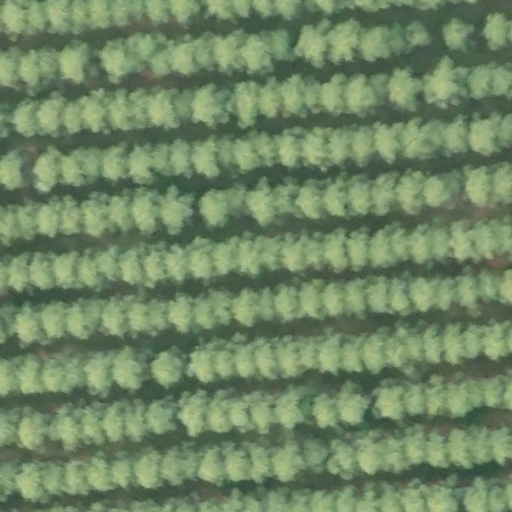eucalipto: (420, 56, 471, 111), (60, 38, 101, 89), (282, 76, 325, 120), (437, 13, 480, 56), (30, 146, 66, 197), (197, 438, 231, 490), (297, 21, 334, 68), (107, 348, 146, 392), (161, 189, 195, 239), (65, 296, 100, 344), (333, 383, 371, 427), (245, 175, 277, 227), (152, 345, 187, 392), (328, 18, 362, 65), (229, 80, 262, 128), (387, 70, 424, 112), (51, 410, 85, 454), (149, 86, 182, 131), (199, 188, 234, 230), (17, 410, 51, 453), (127, 142, 159, 187), (469, 113, 501, 158), (371, 119, 404, 162), (191, 83, 224, 125), (130, 189, 162, 232), (347, 127, 380, 168), (342, 75, 375, 116), (295, 177, 328, 218), (397, 168, 425, 216), (144, 398, 178, 437), (243, 32, 277, 71), (178, 393, 209, 435), (362, 327, 389, 375), (271, 442, 305, 480), (345, 228, 375, 271), (275, 389, 307, 429), (281, 232, 311, 274), (168, 37, 199, 77), (341, 278, 369, 321), (317, 332, 345, 375), (360, 22, 390, 62), (134, 449, 163, 490), (466, 167, 495, 208), (402, 423, 431, 464), (168, 292, 196, 334), (301, 278, 329, 320), (347, 172, 374, 215), (446, 423, 473, 466), (115, 249, 145, 287), (274, 283, 303, 321), (304, 128, 333, 166), (39, 94, 68, 132), (410, 275, 438, 314), (264, 28, 294, 64), (452, 218, 476, 262), (168, 139, 195, 178), (52, 252, 79, 291), (206, 289, 233, 327), (238, 236, 263, 277), (233, 136, 263, 170), (87, 353, 111, 395), (250, 392, 274, 434), (409, 223, 434, 263), (278, 337, 303, 377), (402, 118, 427, 158), (102, 40, 129, 77), (18, 462, 44, 500), (110, 89, 136, 127), (464, 474, 490, 512), (1, 148, 25, 189), (233, 287, 257, 328), (36, 201, 64, 236), (102, 405, 127, 444), (330, 439, 355, 477), (189, 242, 214, 280), (166, 243, 191, 281), (443, 323, 466, 364), (276, 129, 302, 165), (228, 396, 254, 432), (20, 357, 45, 394), (195, 141, 219, 179), (42, 459, 66, 497), (88, 453, 110, 494), (427, 482, 457, 512), (446, 380, 471, 415), (484, 323, 507, 360), (111, 453, 133, 491), (475, 270, 500, 303), (65, 95, 87, 132), (215, 346, 238, 381), (20, 54, 43, 87), (456, 270, 478, 304), (359, 436, 380, 471), (404, 380, 426, 411)
